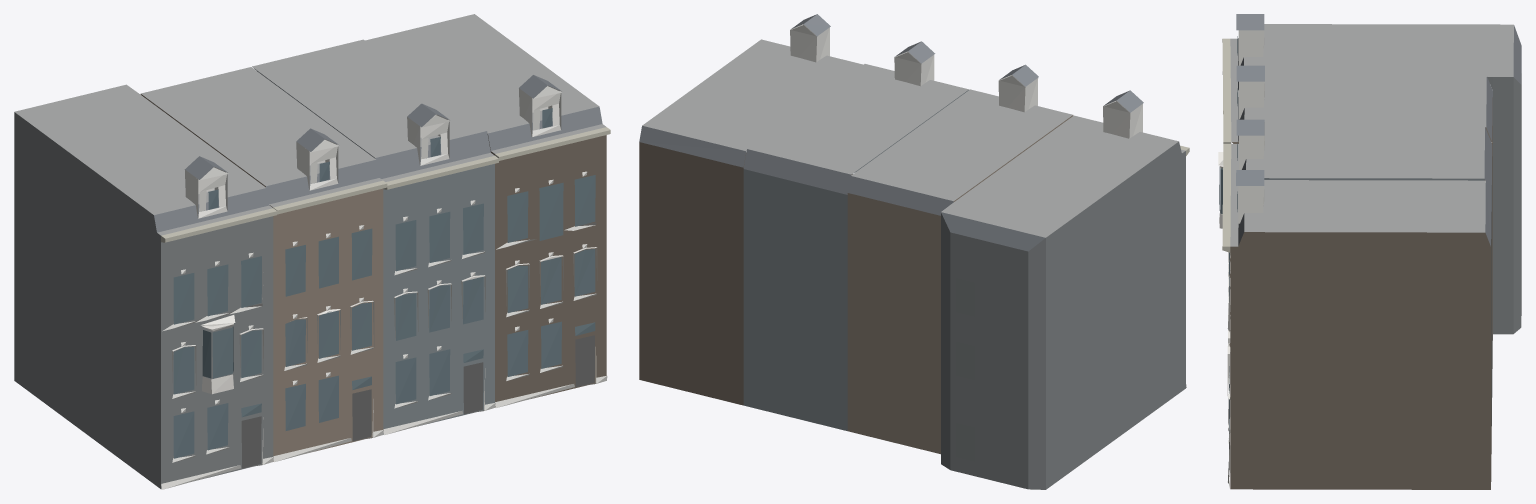
File: chunk-face-tex-8-58-r1.lod2.glb
3 views of the same model, side by side, from view 1: azimuth 30°, elevation 25°; view 2: azimuth 150°, elevation 25°; view 3: azimuth 270°, elevation 25° (orthographic). The views are drawn at different scales.
Visible parts, largest first — view 1: lod2; view 2: lod2; view 3: lod2.
Part boxes in pixels (<box>): lod2: <box>14,14,610,489</box>; lod2: <box>639,14,1189,489</box>; lod2: <box>1218,14,1521,489</box>.
Bounding box in the file's own units: 24.9 × 16.35 × 15.31.
